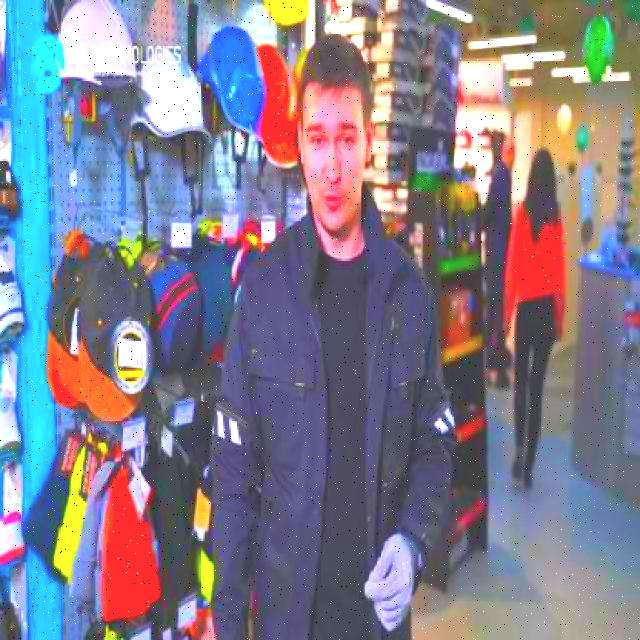Gloves: (364, 529, 422, 634)
Helmet: (200, 26, 268, 145), (126, 46, 212, 140), (50, 0, 136, 91), (254, 44, 300, 168)
